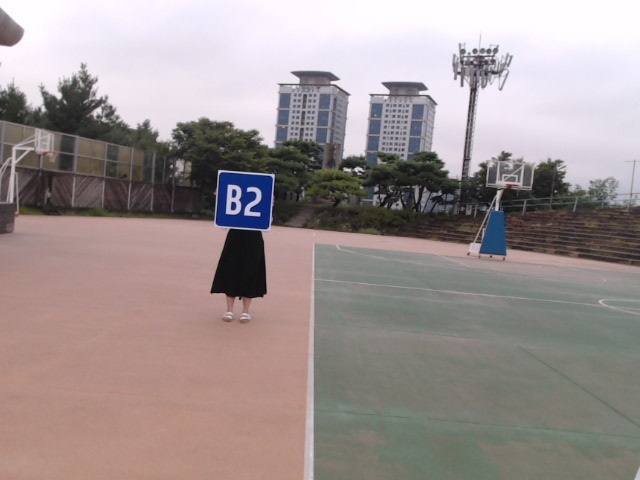delivery_b2: (215, 170, 274, 230)
